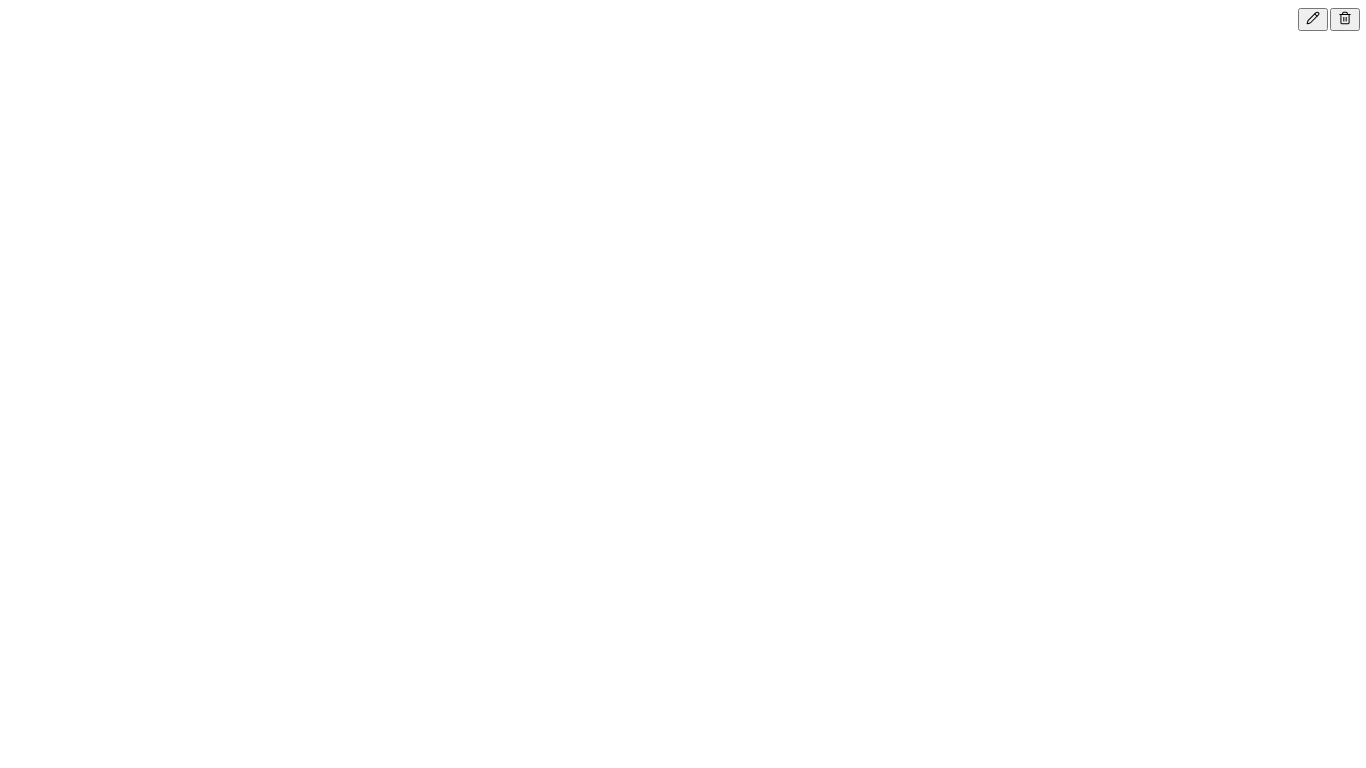
Test: AgentCardActions delete › asks in a dialog and deletes once confirmed
Click the button named "Delete support" at (1345, 20), box [1330,8,1360,31]
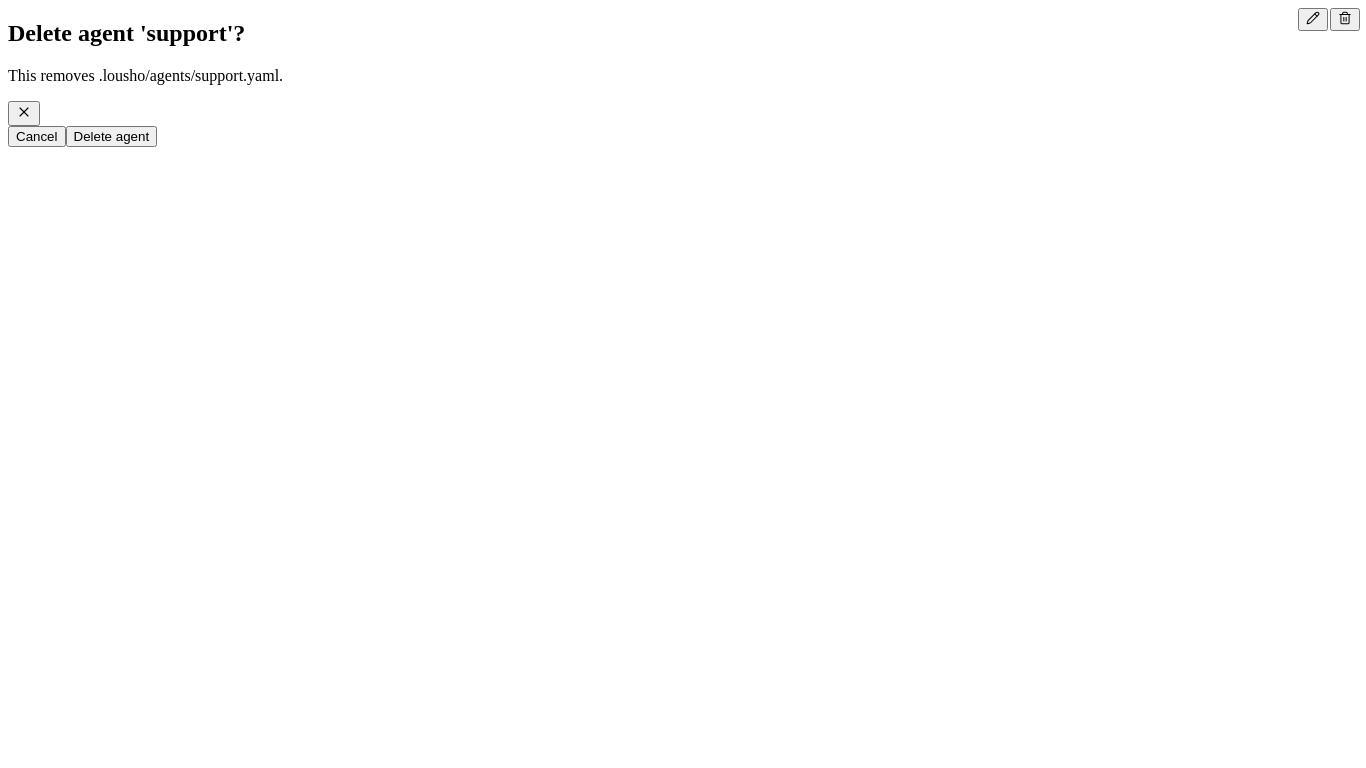
Expected: the dialog shows "Delete agent 'support'?", [8,20,245,46]
Expected: the dialog shows "This removes .lousho/agents/support.yaml.", [8,67,283,84]
Click the button "Delete agent" at (111, 136), box [66,126,157,147]
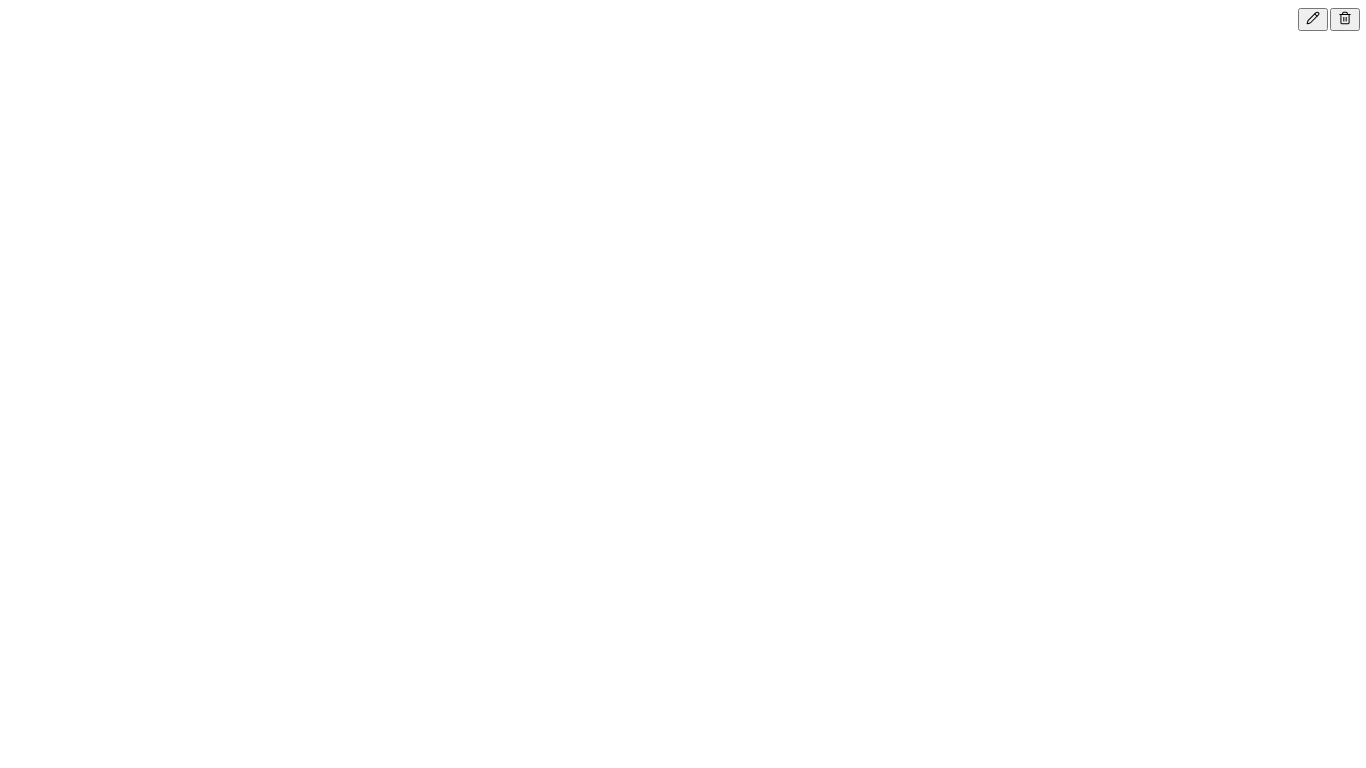
Expected: the dialog is gone
